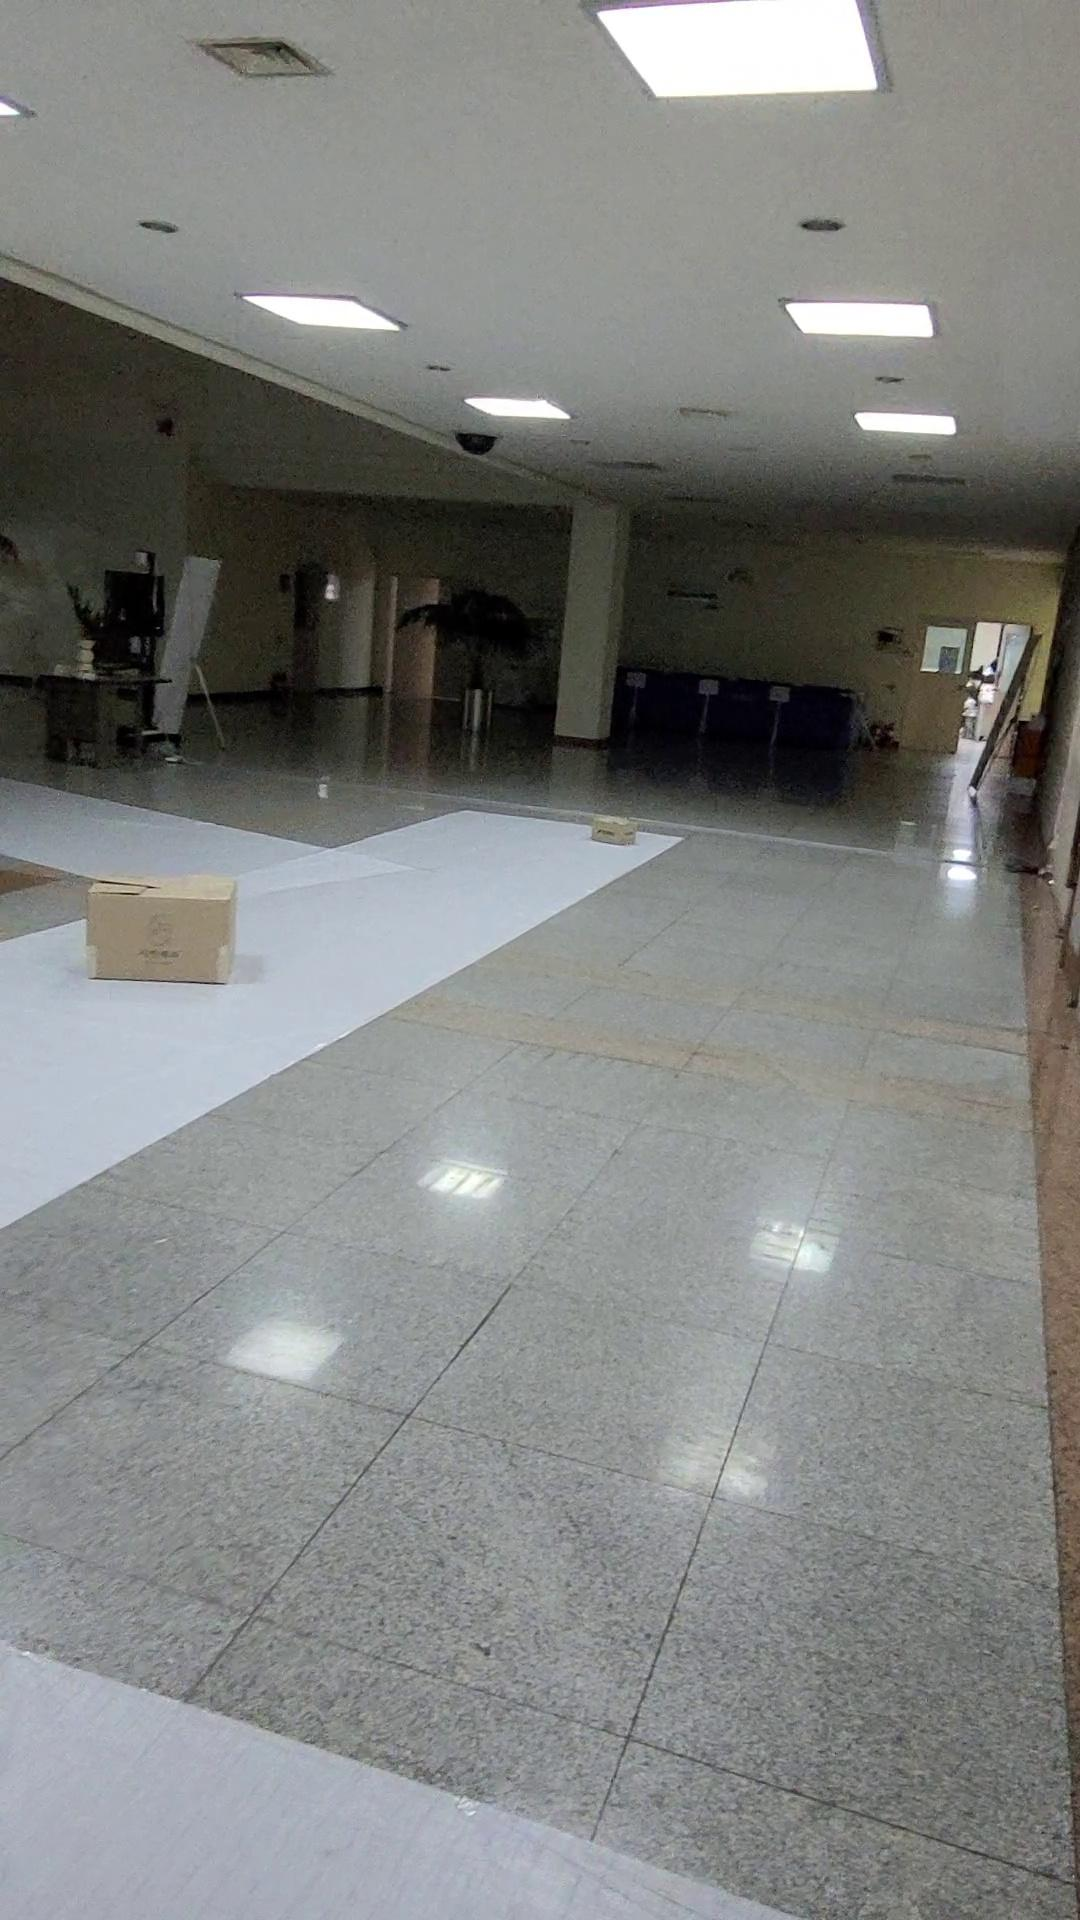Box: (80, 865, 248, 990), (583, 804, 640, 860)
